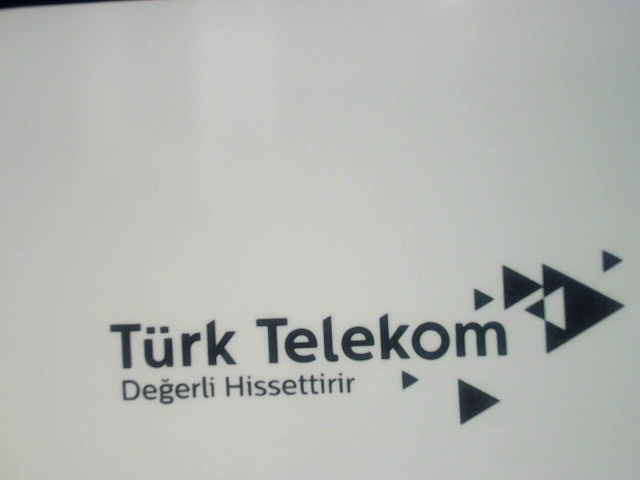AQ_TURKTelekom: (93, 231, 632, 430)
